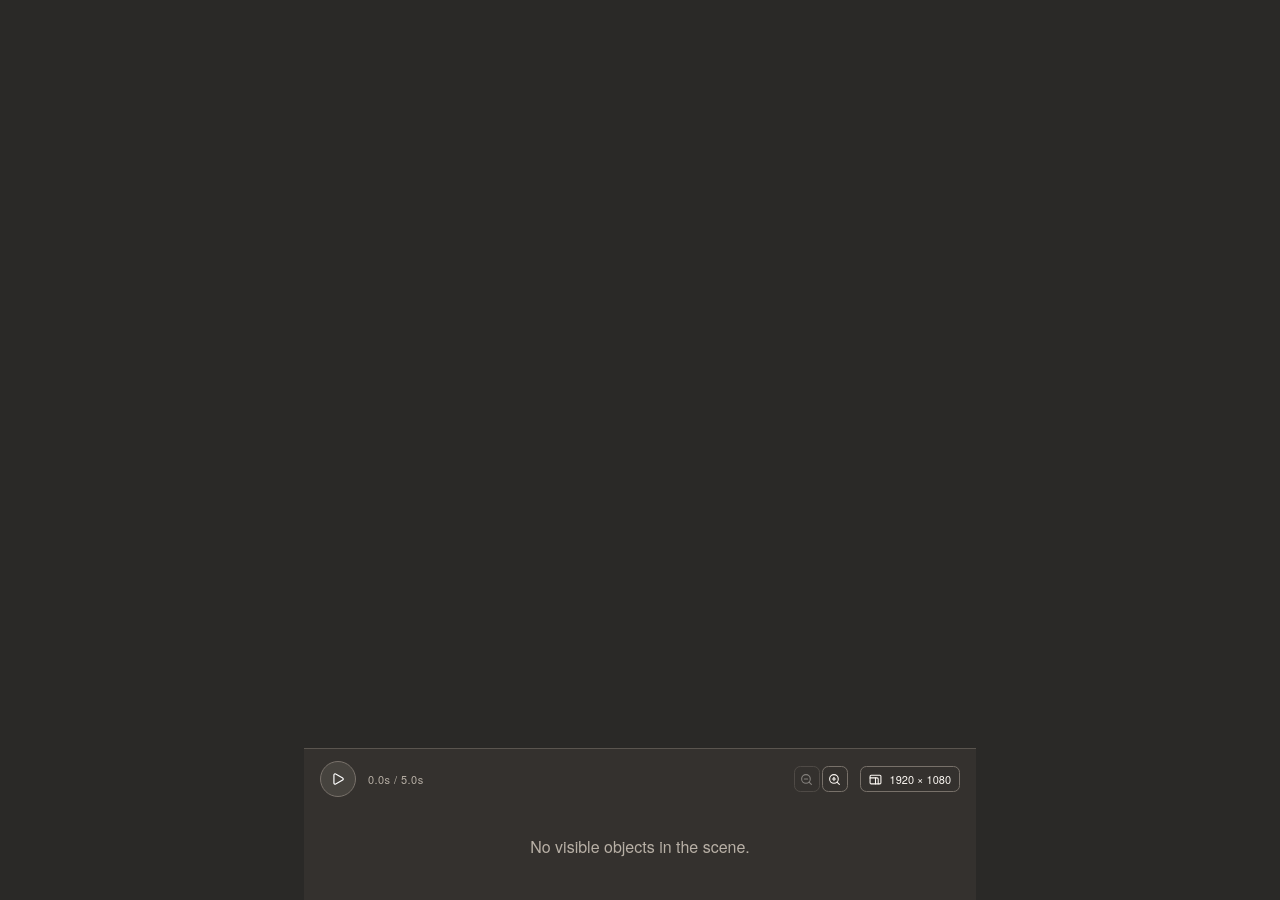
Test: MotionTimeline › video size › shows the current size in the header and opens its panel
Click the button named "Video size: 1920 × 1080" at (910, 779), box [860,766,960,792]
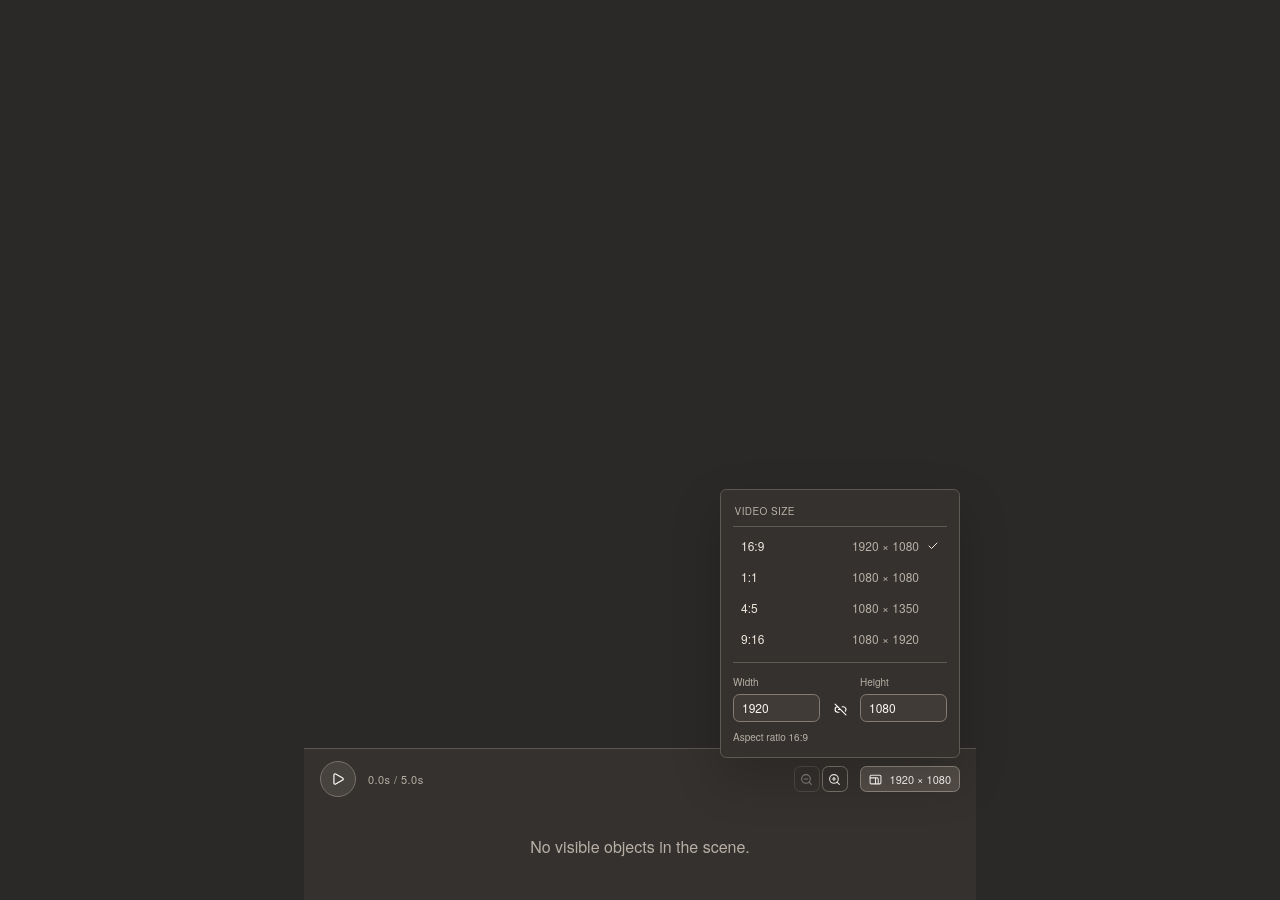
Expected: the dialog "Video size" is shown, [720,489,960,758]
Expected: the text "Aspect ratio 16:9" is shown, [733,730,808,744]
